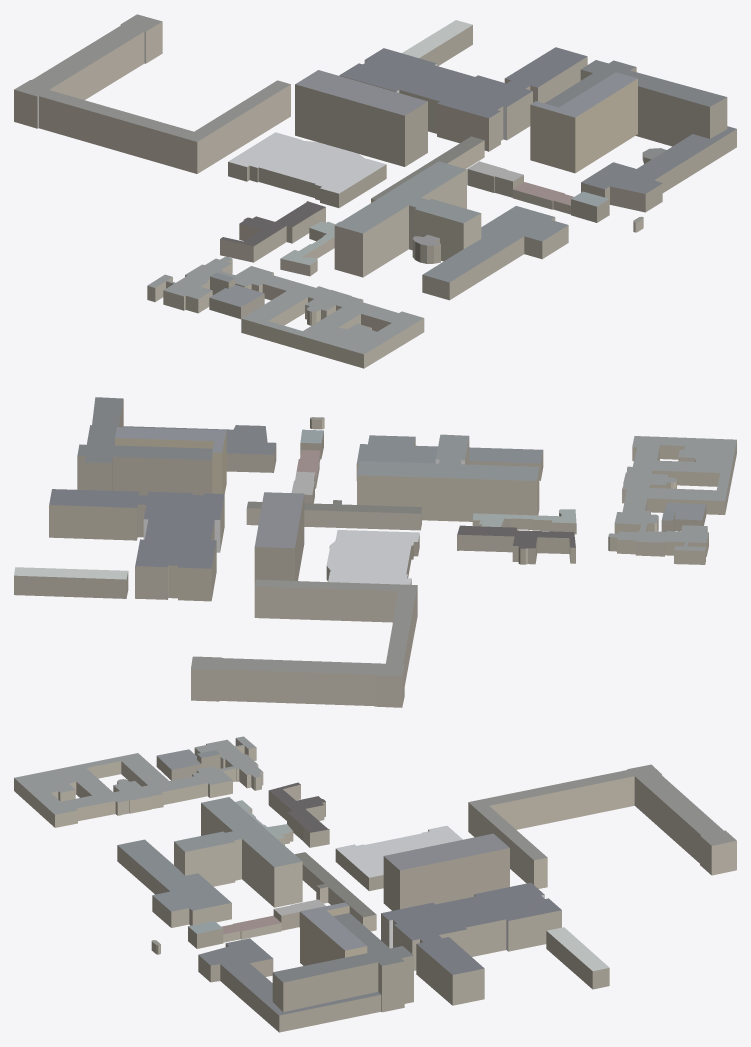
3 views of the same model, one above another, from view 1: azimuth 30°, elevation 25°; view 2: azimuth 150°, elevation 25°; view 3: azimuth 270°, elevation 25° (orthographic). The views are drawn at different scales.
Visible parts, largest first — view 1: tuile; view 2: tuile; view 3: tuile.
Boxes of the visible parts, bbox=[...] form: tuile: bbox=[14, 14, 736, 368]; tuile: bbox=[14, 397, 736, 707]; tuile: bbox=[14, 736, 736, 1032].
Bounding box in the file's own units: 310 × 28.3 × 346.
